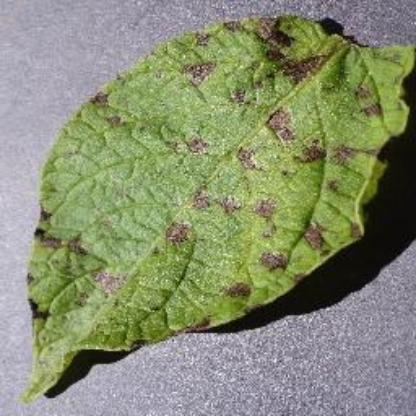Early-Blight: (22, 8, 410, 400)
